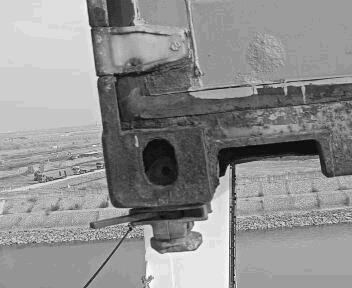twist_lock_1: (124, 187, 235, 258)
